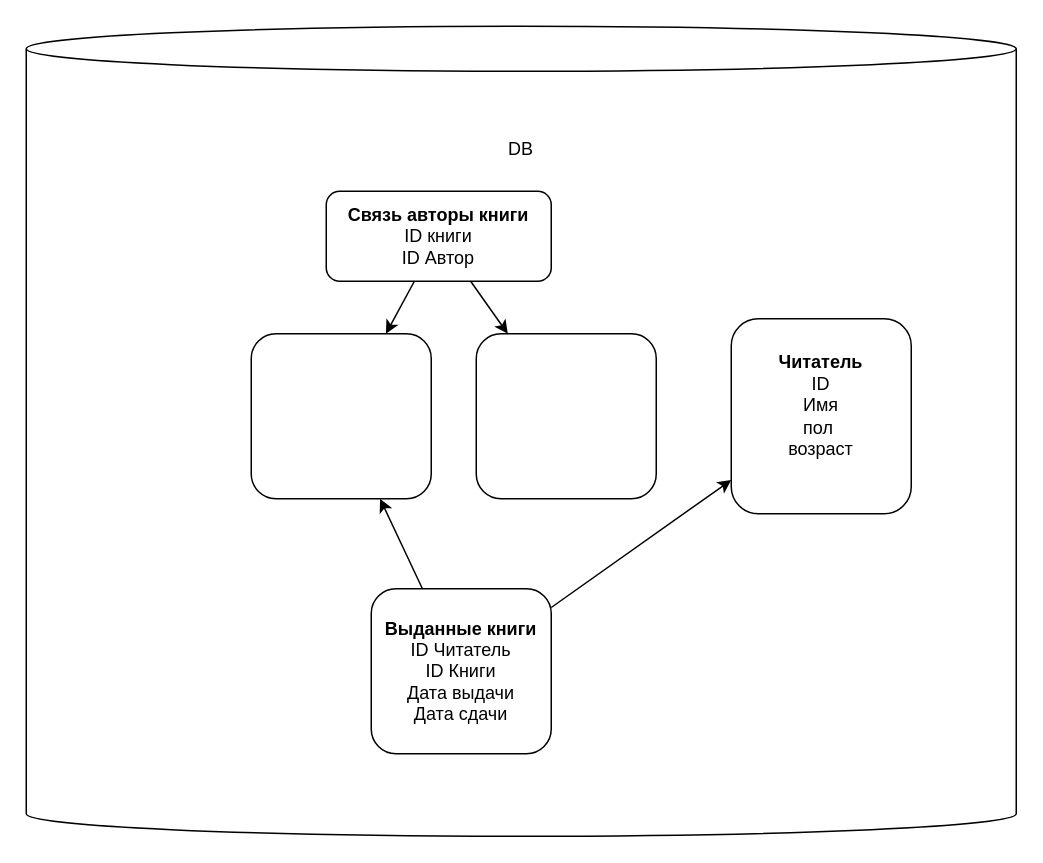
Image size: 1043x863. Some labels were removed from this diagram. The centre of each missing label's shape, as x and y in pixels:
"Авторы ID Имя" belongs at point 565,415.
"Книга ID Название год Количество ..." belongs at point 340,415.
